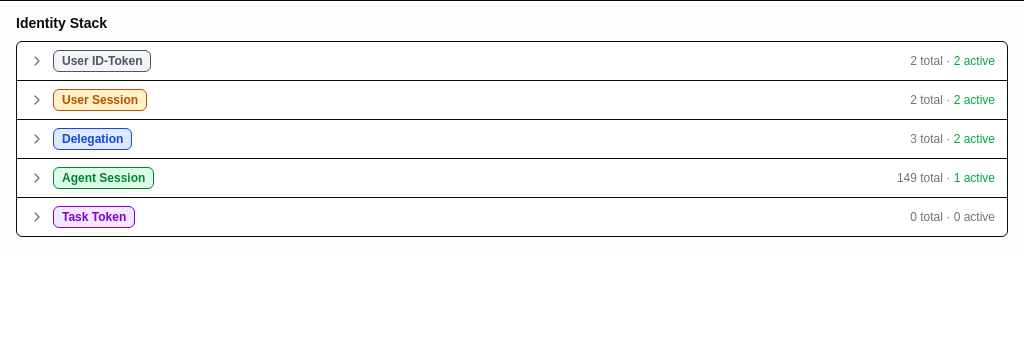
IdentityStackPanel › User Session renders session ID, user email, IdP, and status
Click the text "User Session".
click(100, 100)  # box [53,89,147,111]
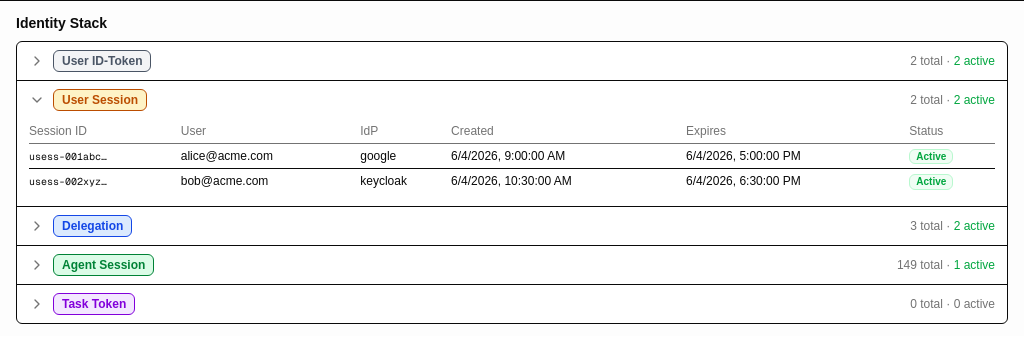
Result: the text "usess-001abc…" is shown at [29,144,181,169]
Result: the text "alice@acme.com" is shown at [181,144,360,169]
Result: the text "google" is shown at [360,144,451,169]
